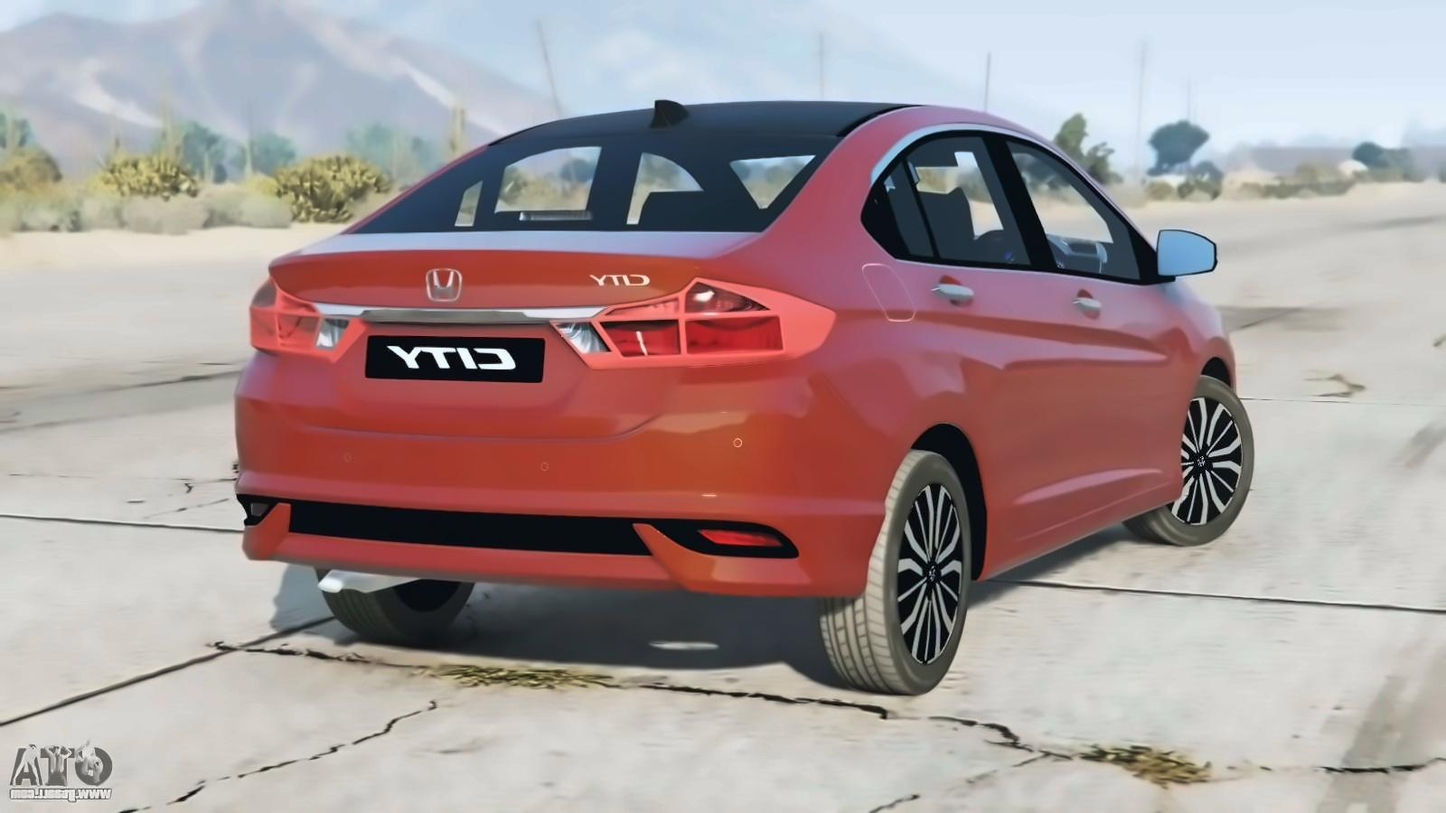Car boot: (242, 227, 761, 435)
Driver-s door - -F-R-: (988, 102, 1171, 589)
Passenger-s door - -R-R-: (860, 90, 1073, 597)
Rear bumper: (209, 413, 890, 605)
Rear light - -L-: (245, 276, 362, 358)
Rear light - -R-: (591, 275, 823, 366)
Side bumper - -R-: (959, 474, 1198, 616)
Side mirror - -R-: (1144, 225, 1219, 287)
